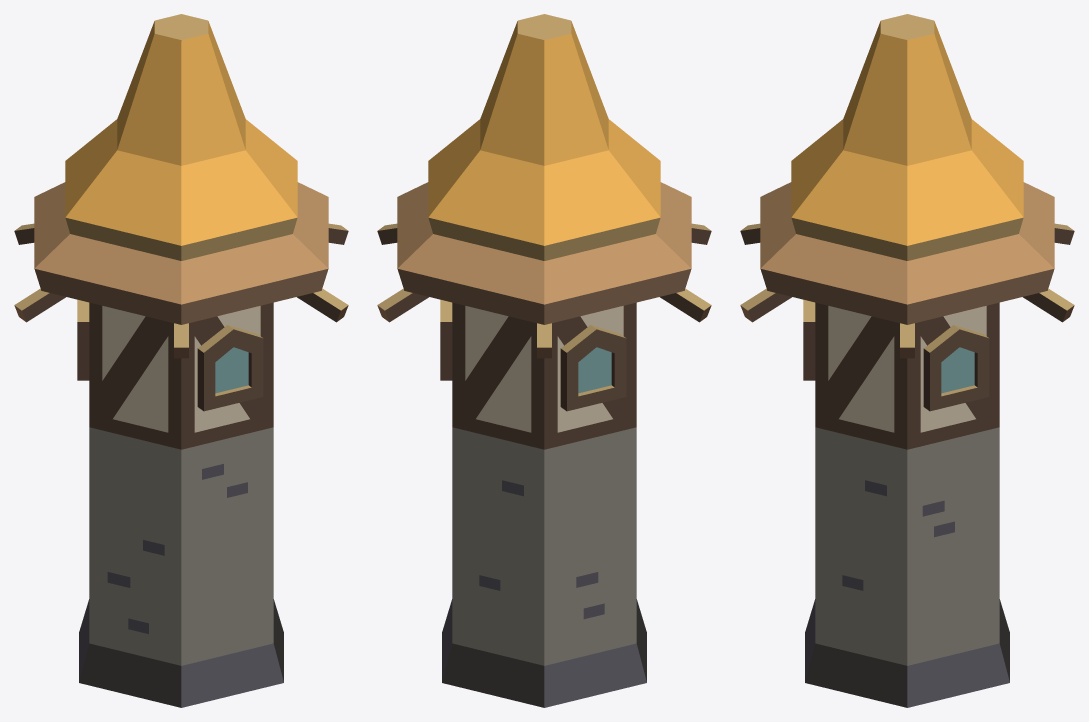
Rendered from windmill.glb.
The picture shows the model from 3 angles, left to right: view 1: azimuth 30°, elevation 25°; view 2: azimuth 150°, elevation 25°; view 3: azimuth 270°, elevation 25°; orthographic projection.
Visible parts, largest first — view 1: TB_Bd_Tower; view 2: TB_Bd_Tower; view 3: TB_Bd_Tower.
Part boxes in pixels (<box>): TB_Bd_Tower: <box>14,14,348,707</box>; TB_Bd_Tower: <box>377,14,711,707</box>; TB_Bd_Tower: <box>740,14,1074,707</box>.
Size of the model in its own units: 5.2 by 9.6 by 4.61.
Materials: 1 (1 with a texture image).
